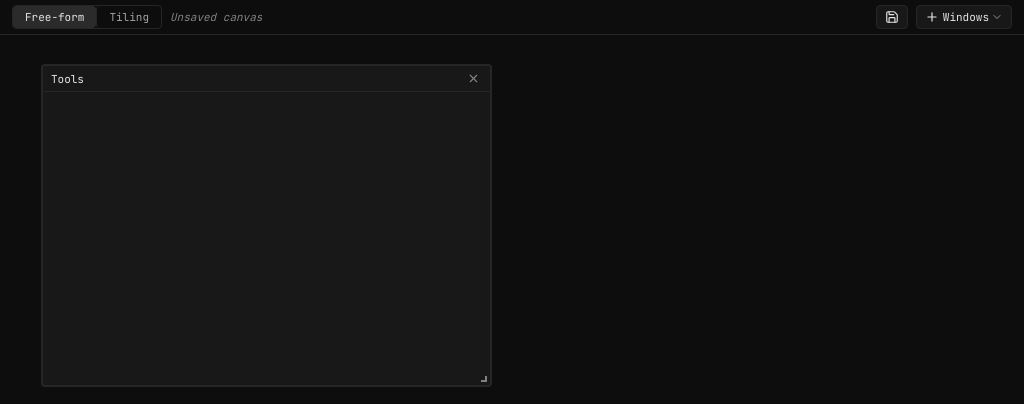
WorkspaceCanvas - Windows picker cross-worktree note › shows the cross-worktree note on an unsaved (scratch) canvas
Click the button "Windows".
click(964, 16)  # box top-left (916, 4), bottom-right (1012, 28)
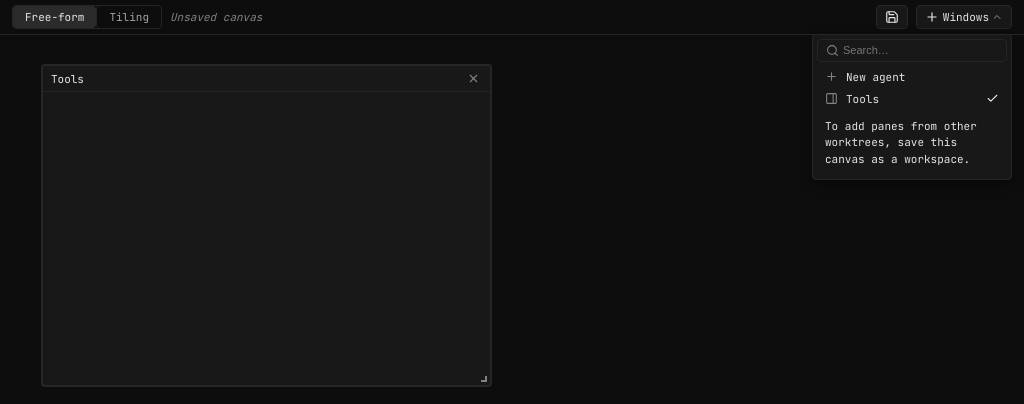
expect the text "To add panes from other worktrees, save this canvas as a workspace." is shown: met, box top-left (825, 118), bottom-right (977, 166)
